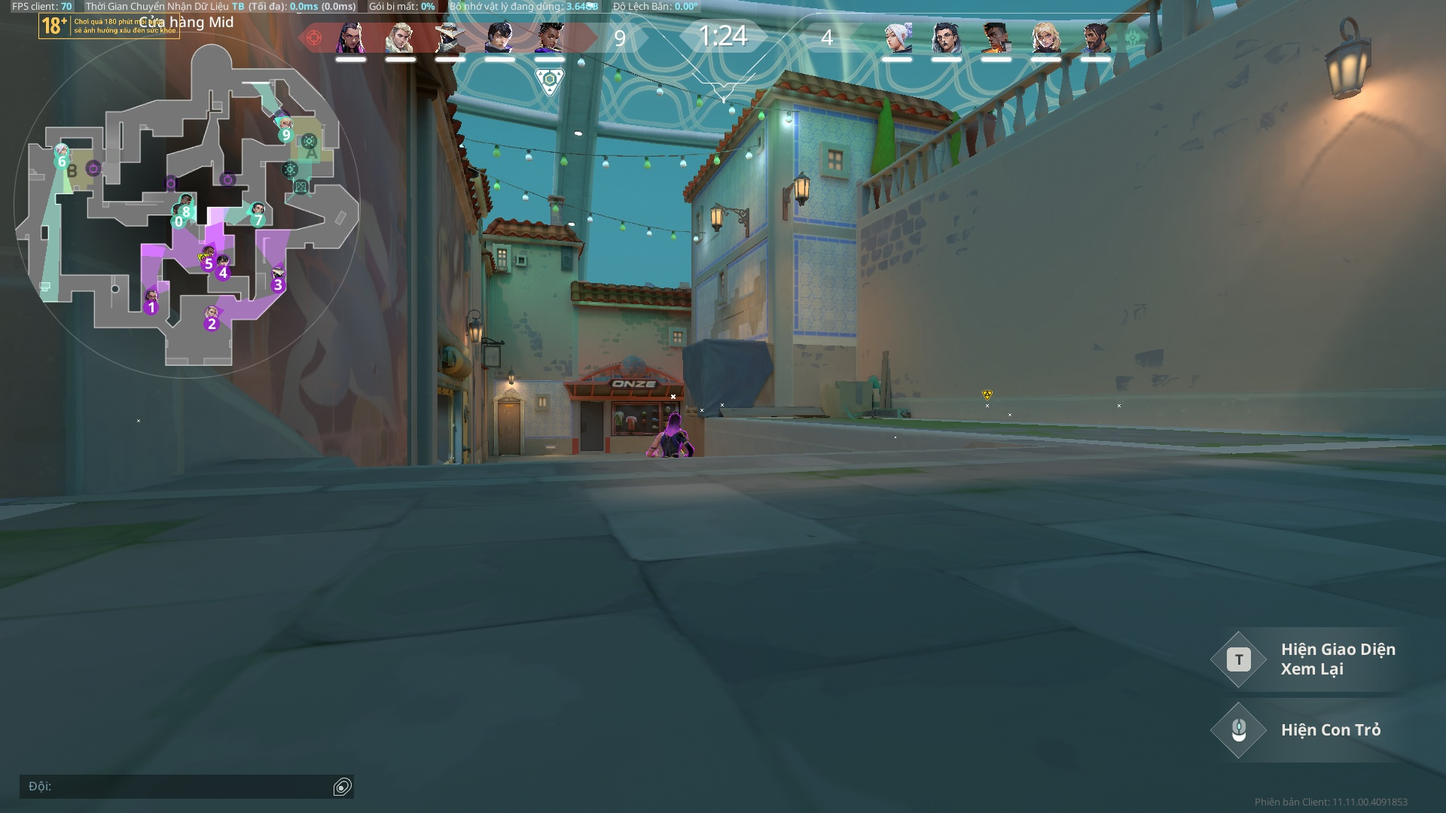body: (658, 428, 688, 455)
head: (668, 413, 682, 428)
